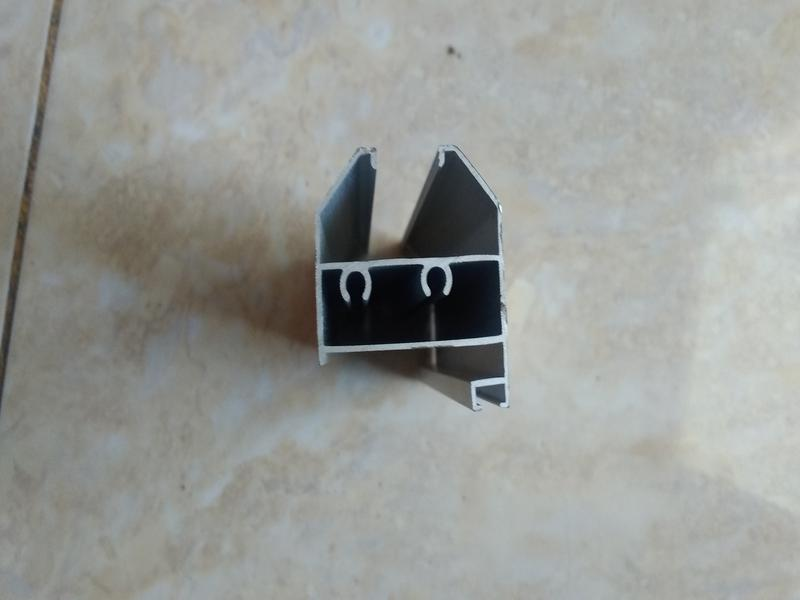Aluminium_3: (263, 122, 581, 439)
